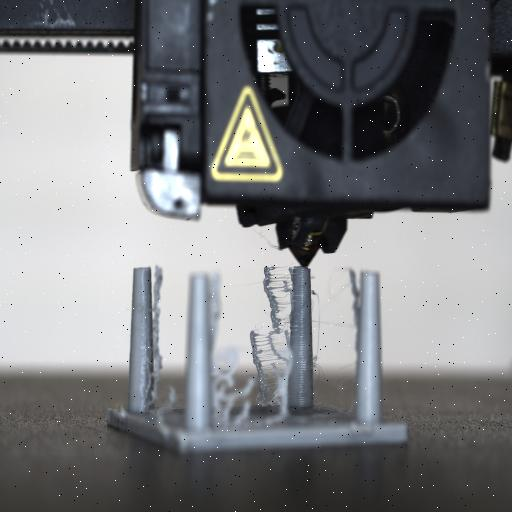stringing: (325, 266, 367, 398), (249, 263, 281, 414)
